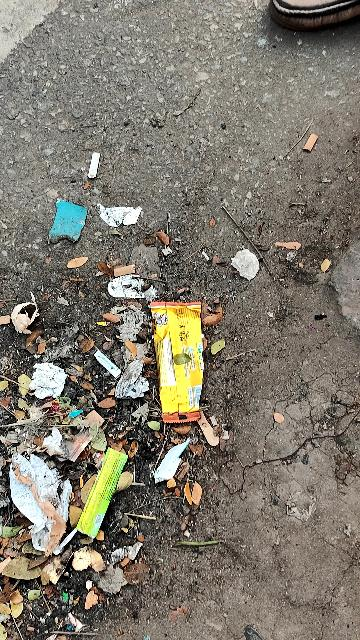packet: (144, 291, 217, 423), (70, 445, 132, 545)
